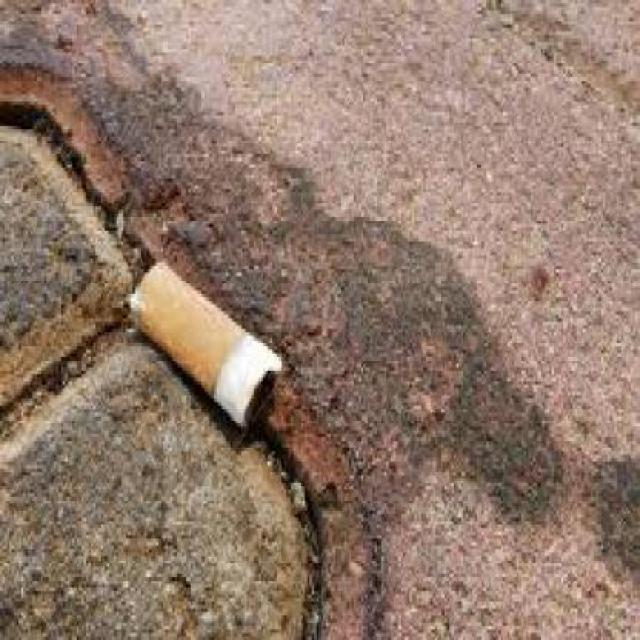cigarette: (113, 266, 304, 448)
